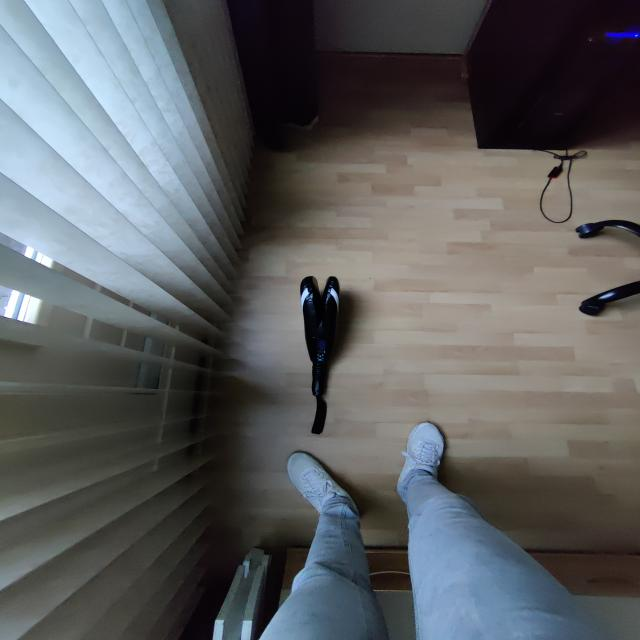paddle: (291, 271, 350, 401)
